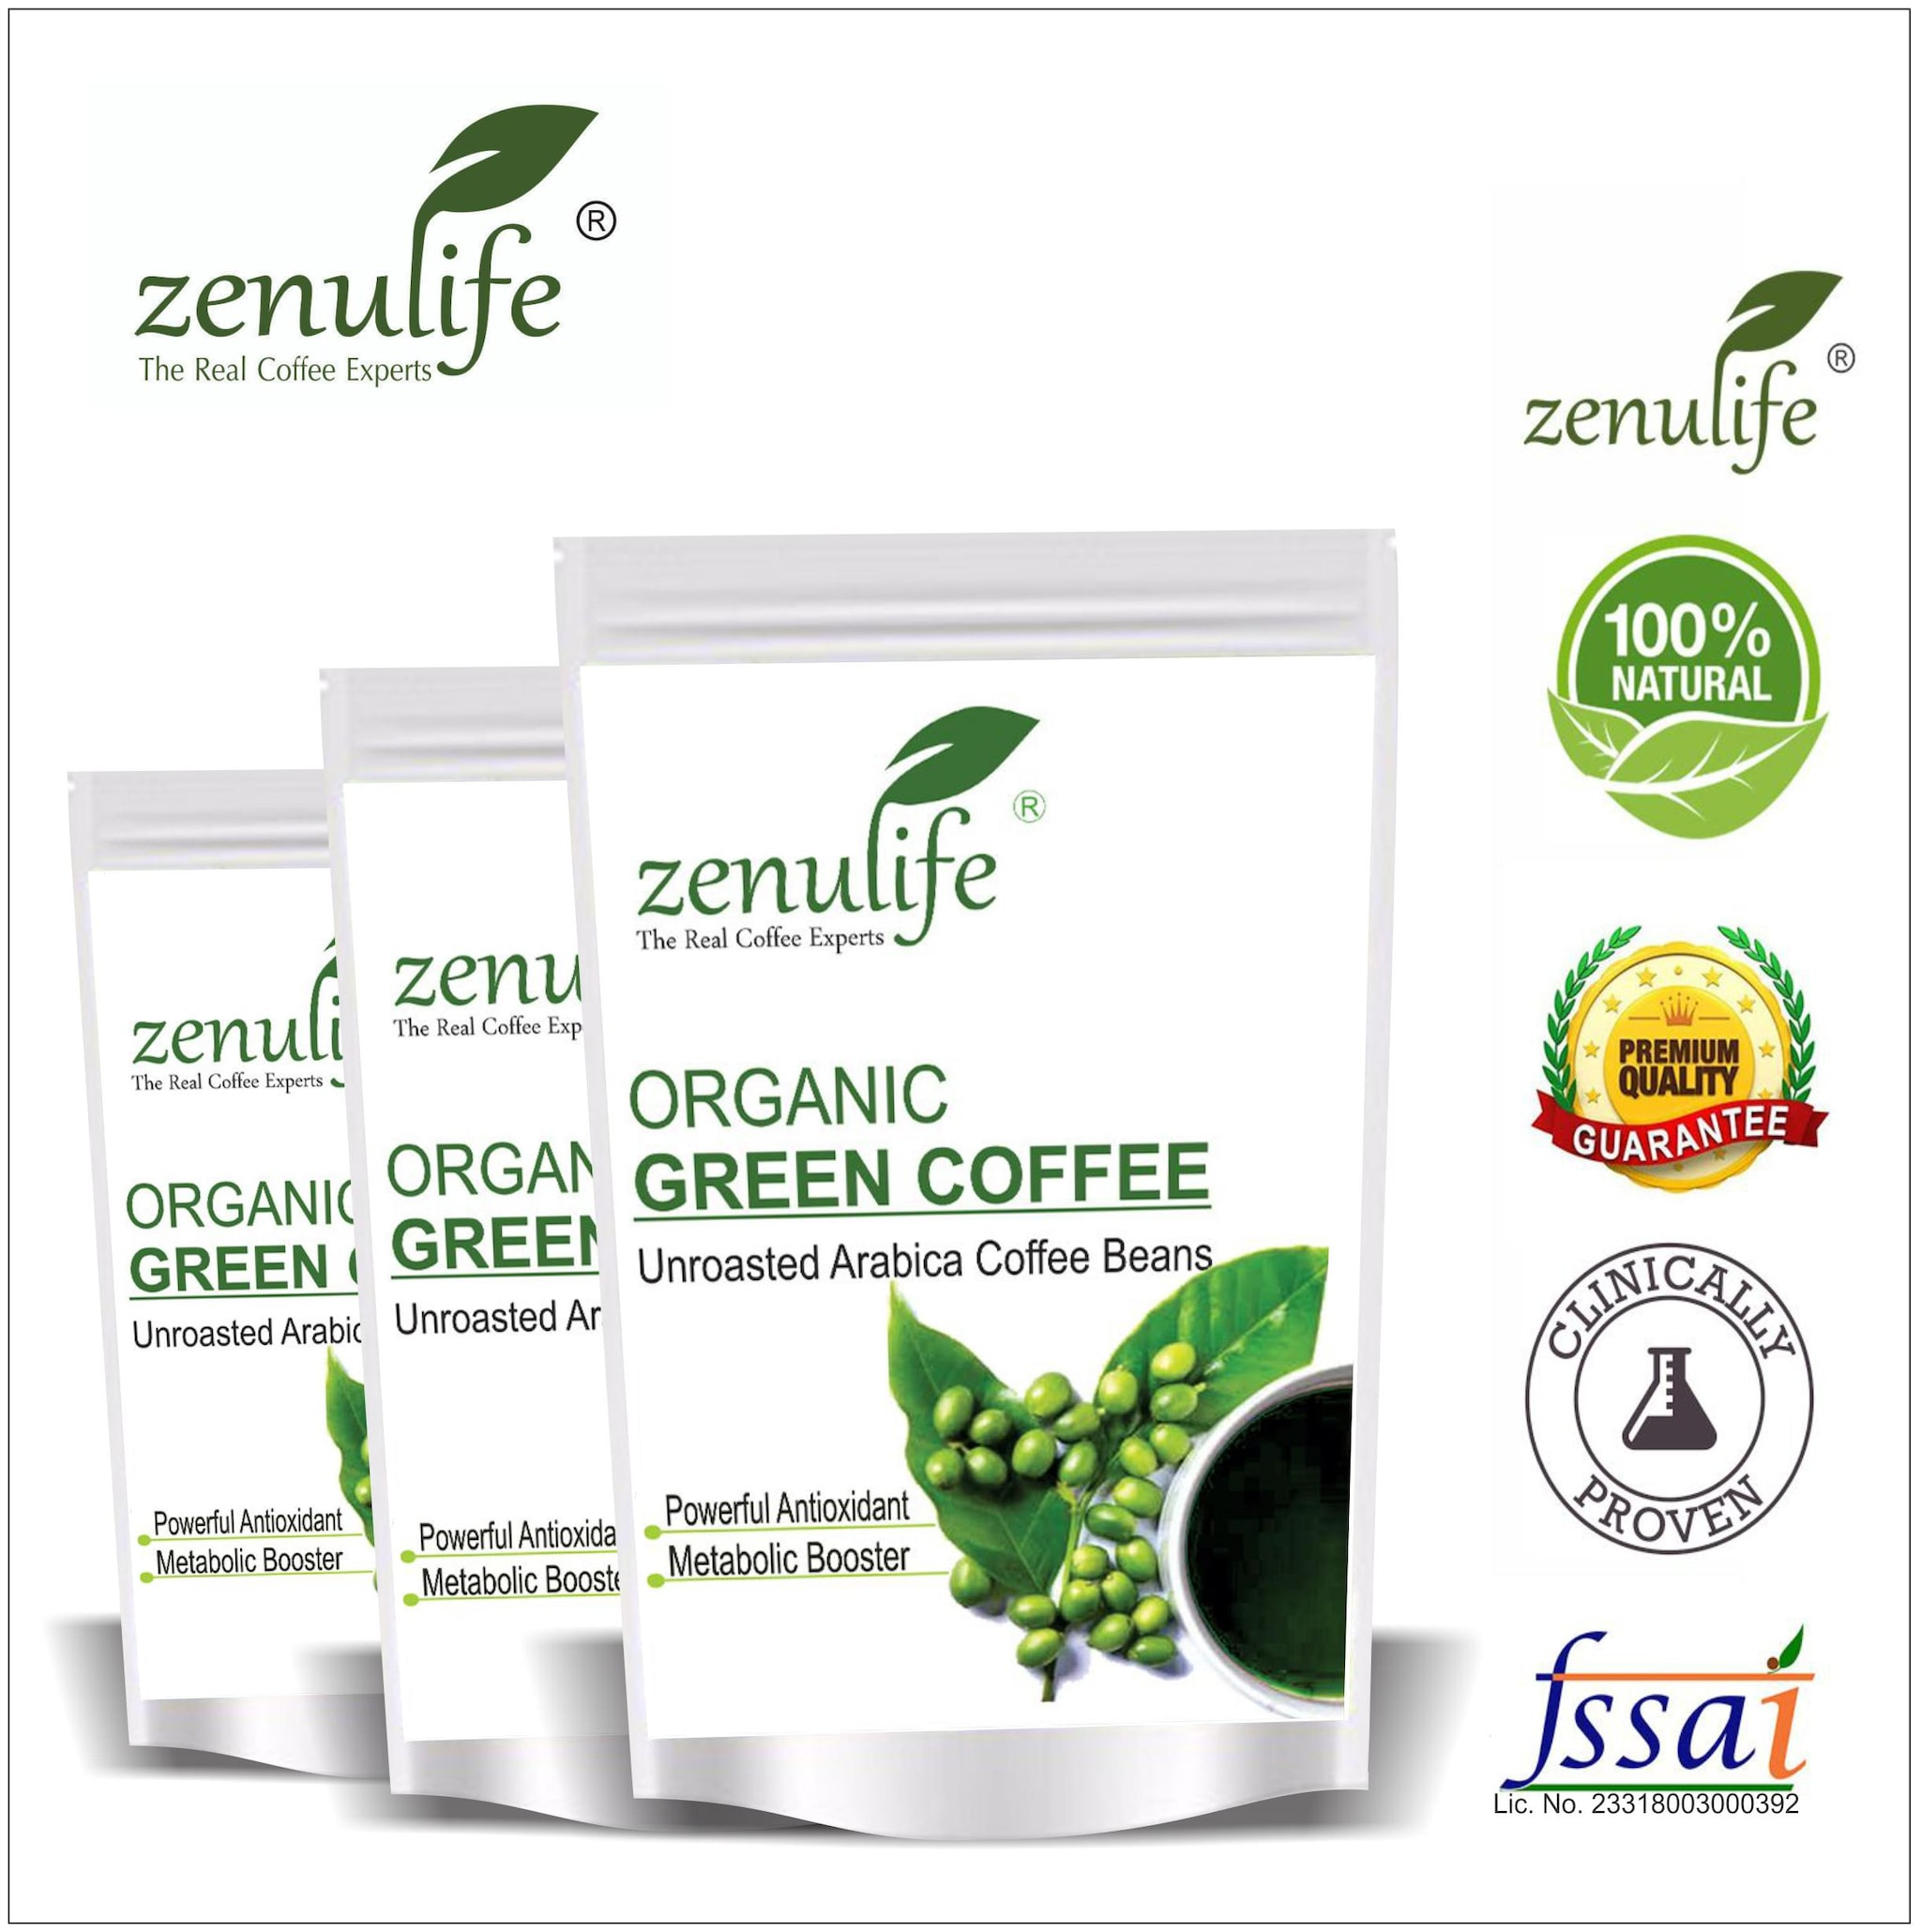fssai: (1494, 1628, 1826, 1795)
